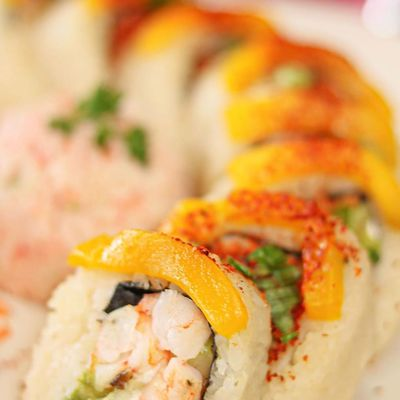soup: (20, 229, 268, 400)
